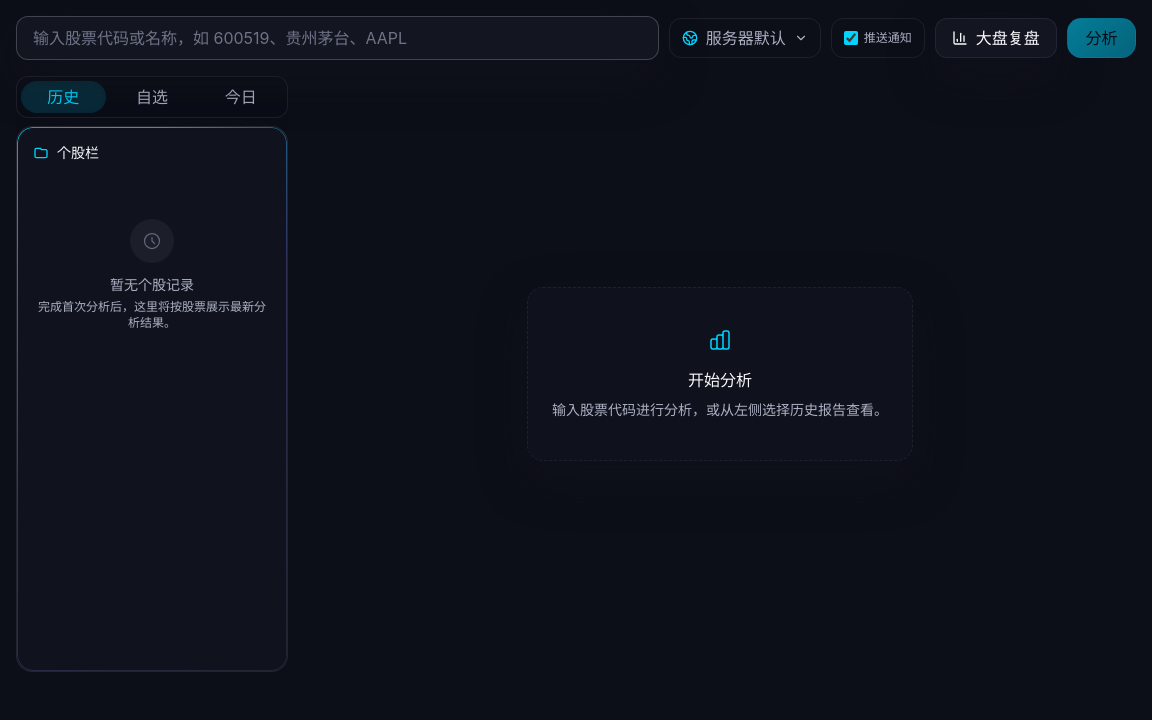
Test: HomePage › keeps Shanghai-day records that fall on the previous server date
This screenshot has width=1152, height=720.
Step 1. Click the button "今日" → (241, 97), box x1=198 y1=81 x2=283 y2=113
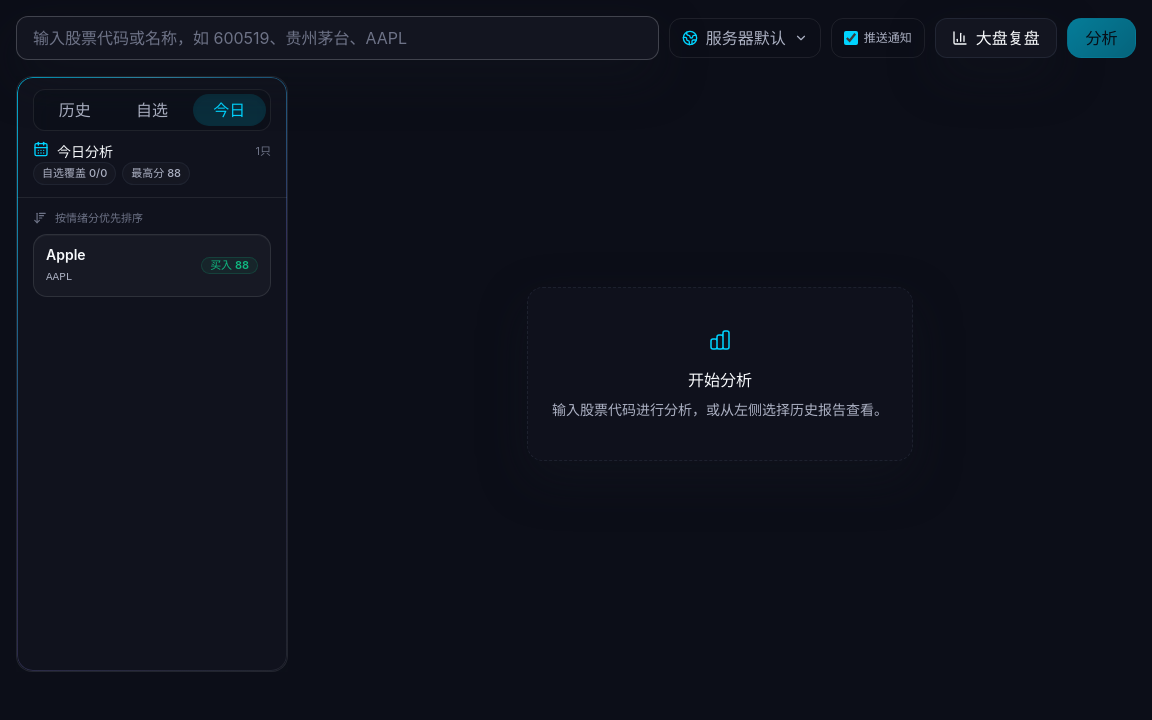
Check: the button "Apple AAPL 买入 88" is shown, box x1=33 y1=234 x2=271 y2=296
